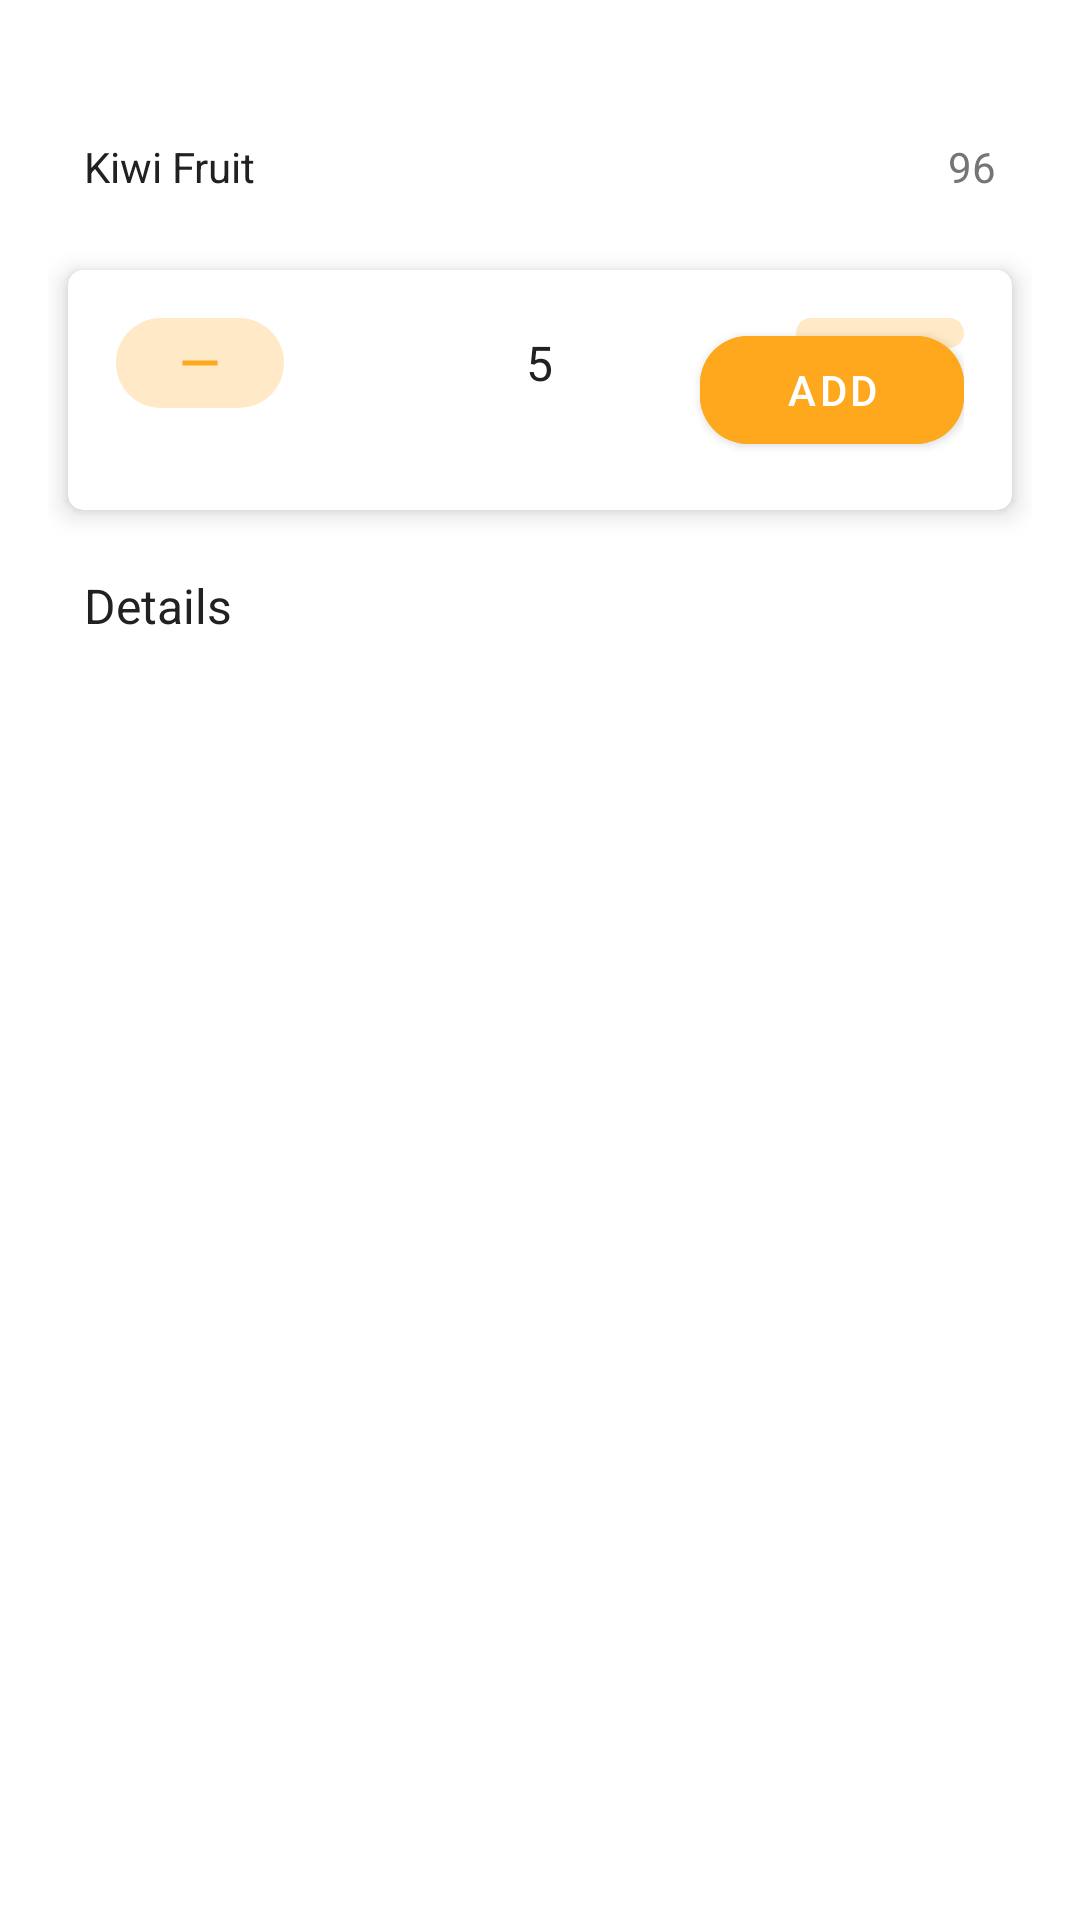

Where to tap for icons on this 1080 x 1920 app screen, as point (x, y):
remove: point (200, 363)
